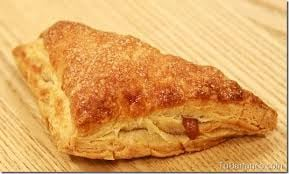soup: (27, 21, 279, 160)
